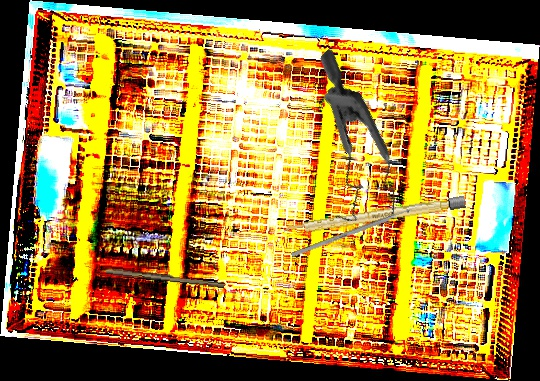Pusher: (290, 203, 422, 258)
Scalpel Handle: (283, 195, 466, 237), (105, 266, 226, 289)
Speculum: (247, 47, 450, 247)
